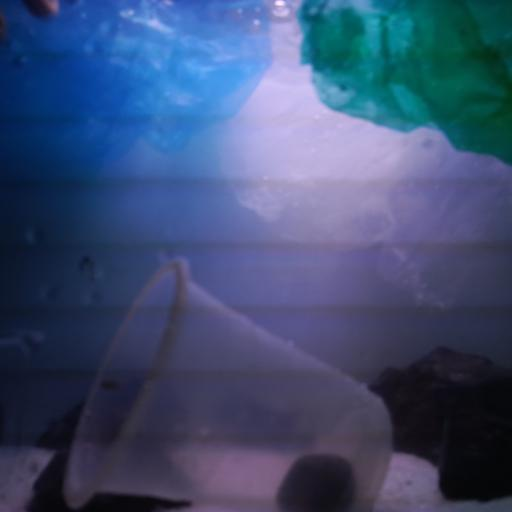plastic_bag: (2, 0, 272, 212), (253, 126, 512, 313), (295, 1, 512, 166)
plastic_cup: (59, 255, 393, 512)
